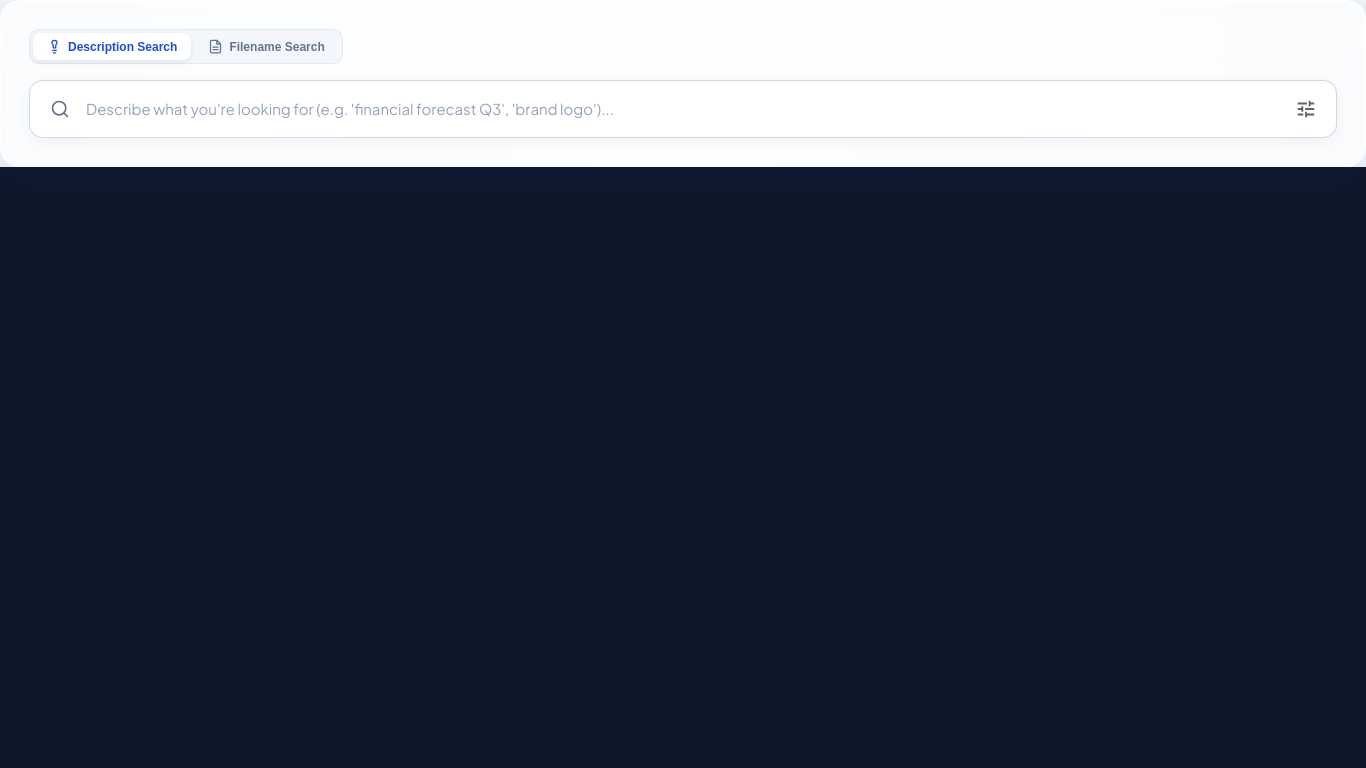
keeps tag filters collapsed until opened from search box
Expected: the button "Tags" is not shown
Step 1. Click the button named "Tag filters" → click(1306, 109), box [1286,89,1326,129]
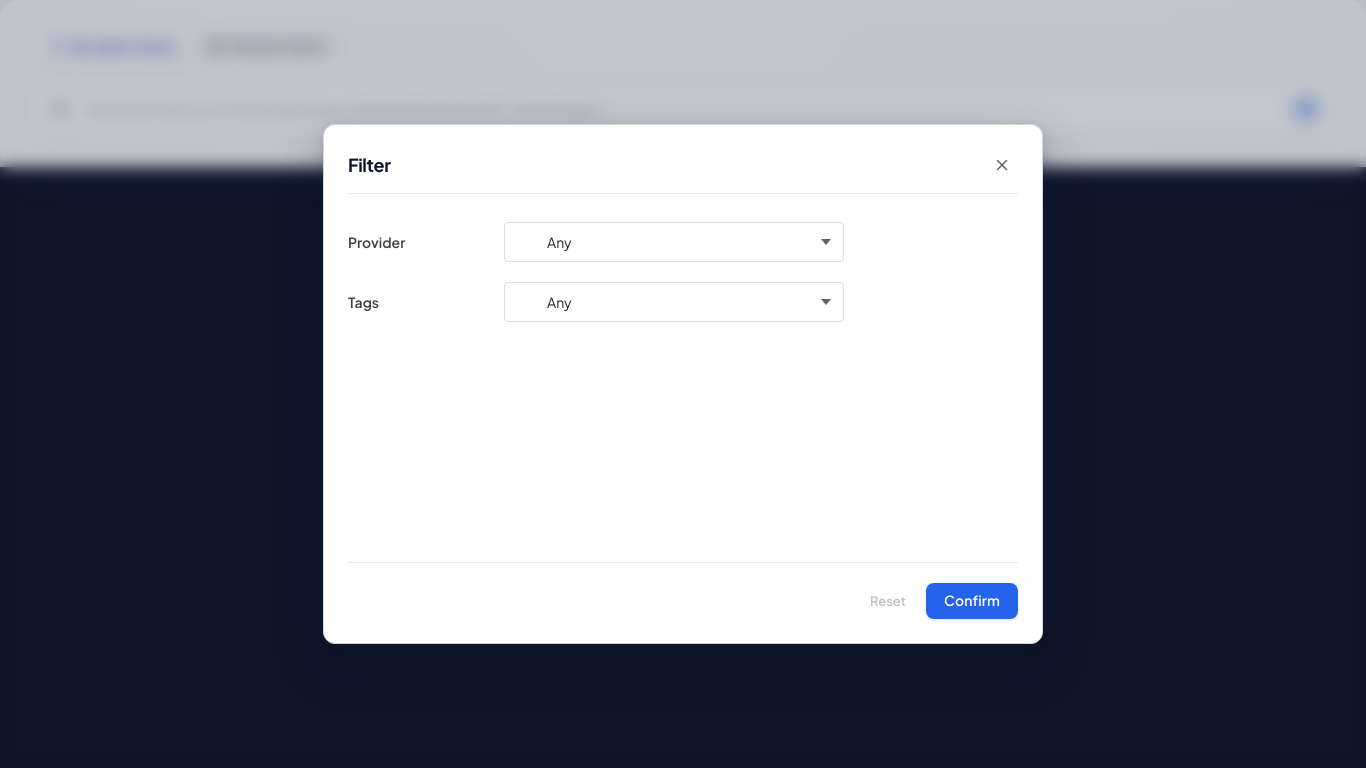
Now the button named "Tags" is shown, box [504,282,844,322]
Now the dialog named "Filter by tags" is shown, box [323,124,1043,644]
Now the button named "Tag filters" is expanded, box [1286,89,1326,129]
